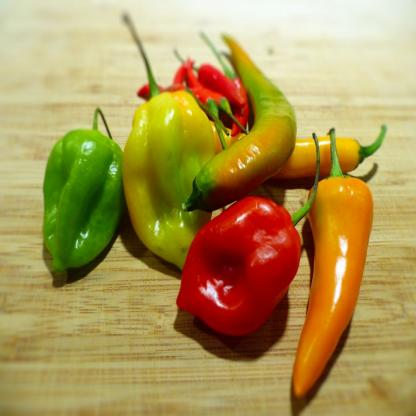--: (303, 120, 387, 402)
